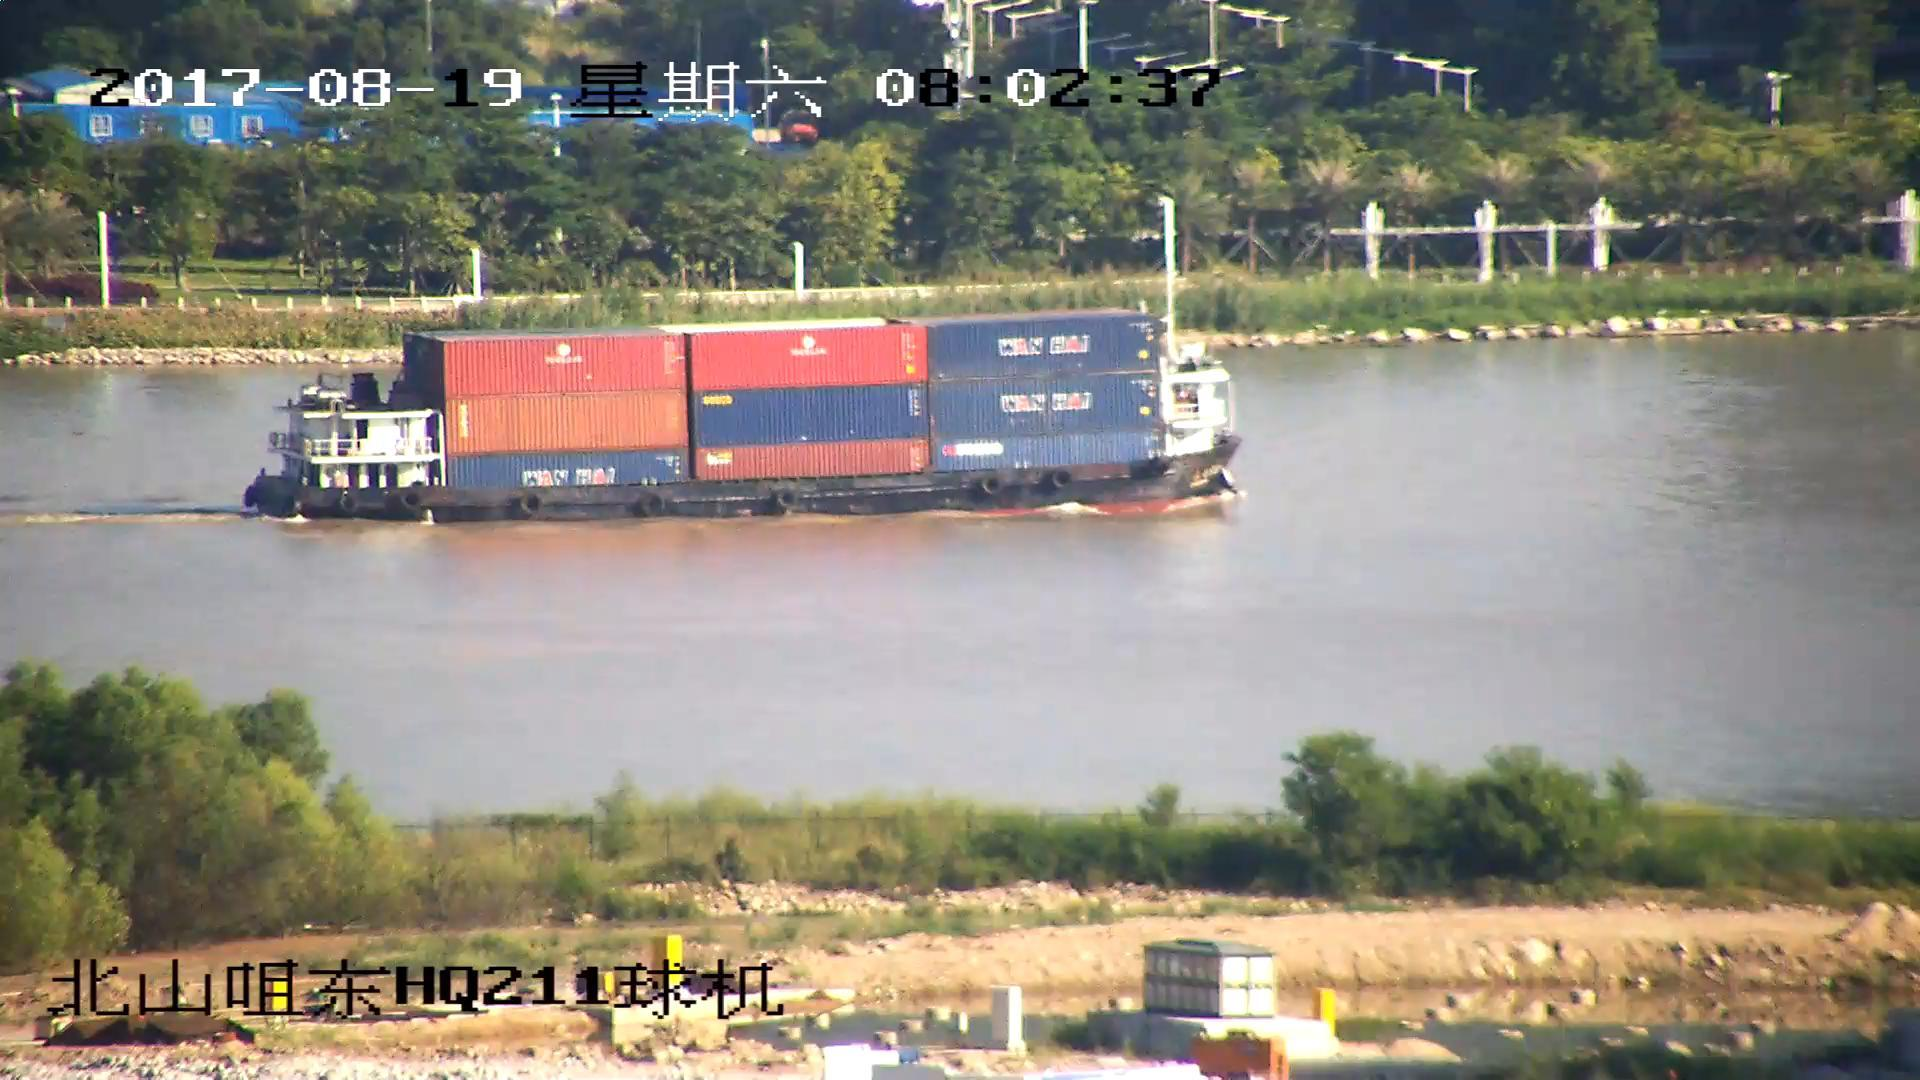Ship: (240, 309, 1259, 520)
